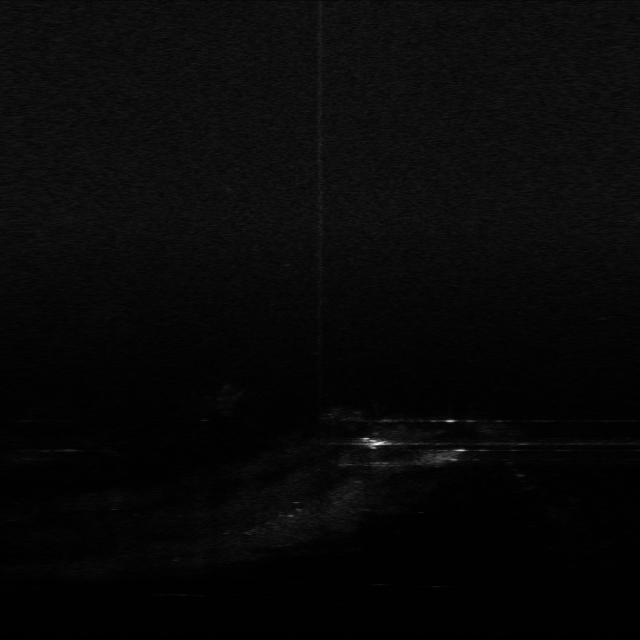rov: (360, 434, 394, 451)
